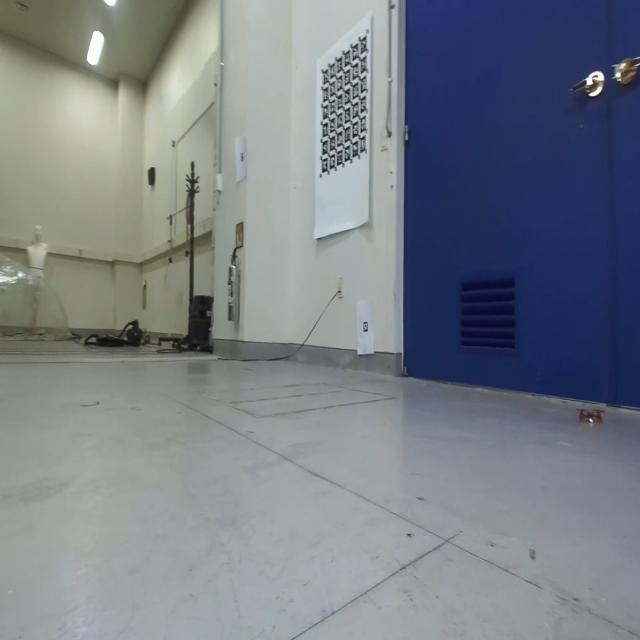crazyflie: (574, 404, 606, 430)
